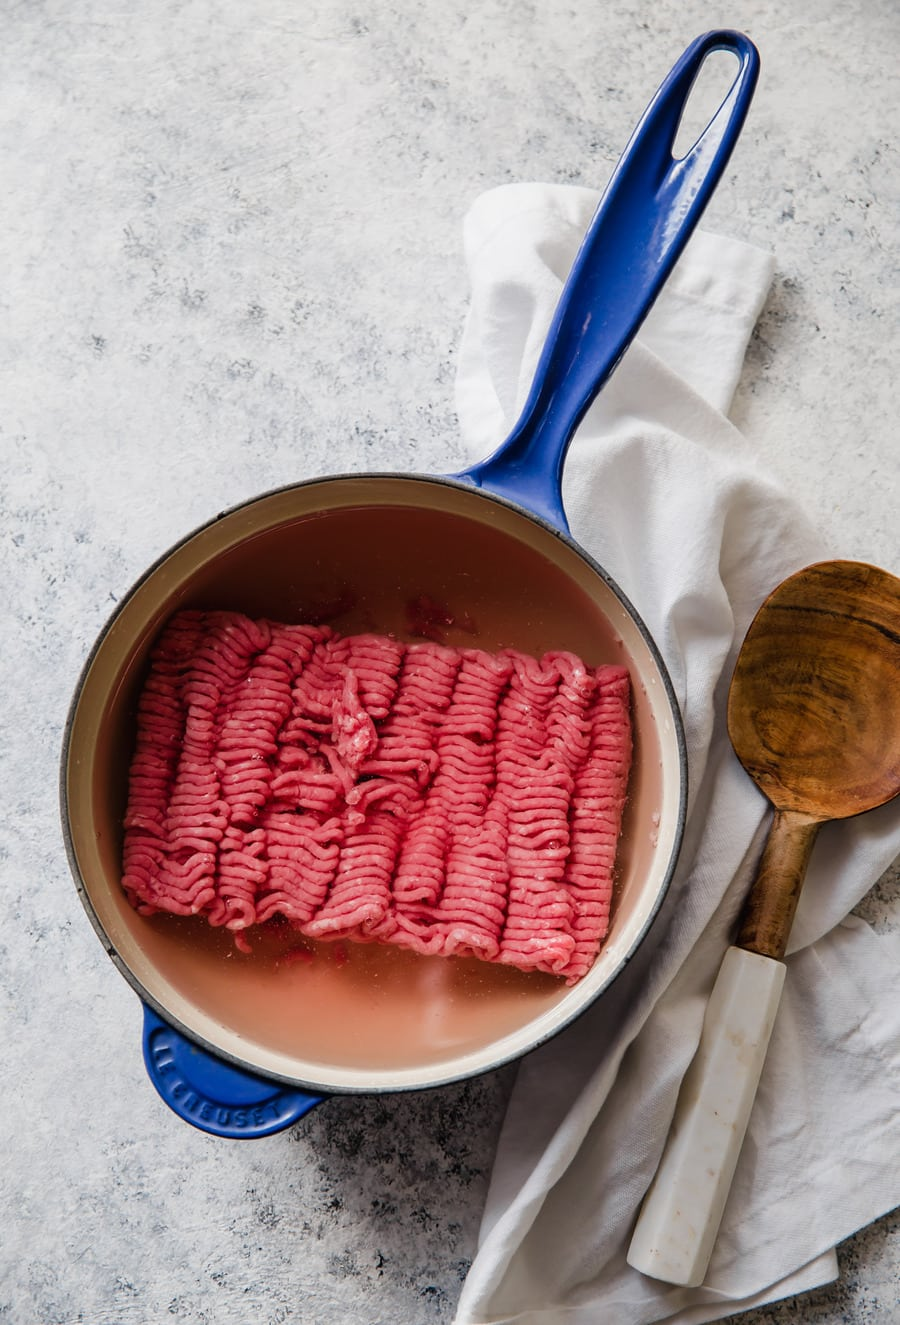ground_beef: (99, 604, 638, 969)
